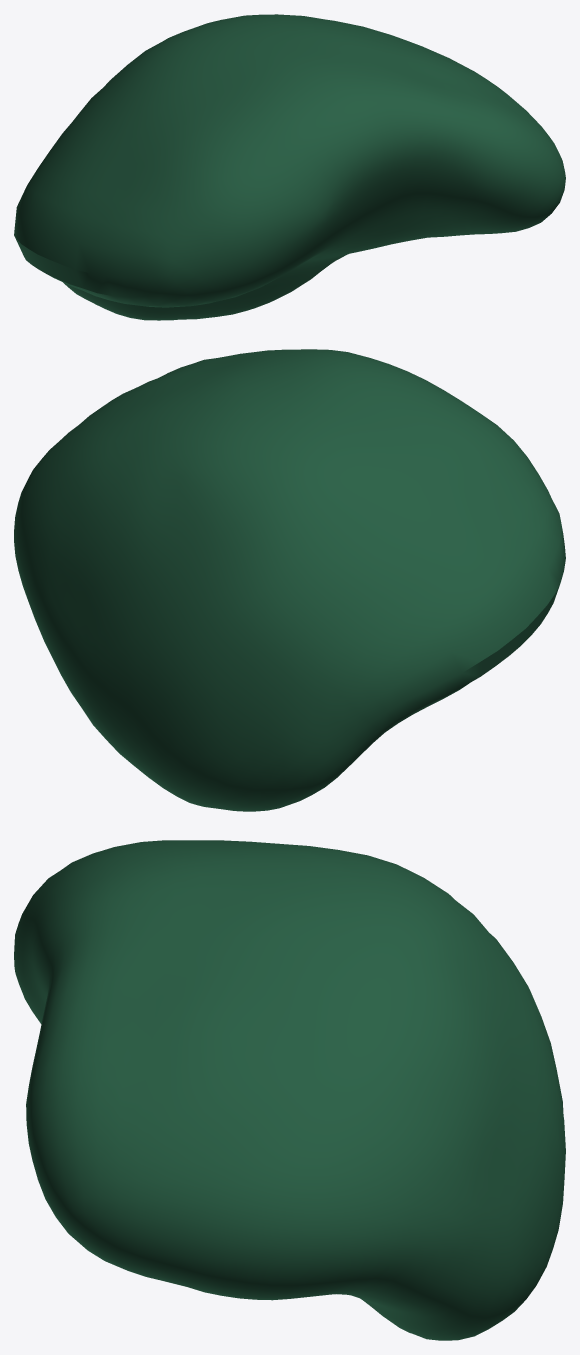
The model's file is Shrub.glb.
3 renders of one model, top to bottom at view 1: azimuth 30°, elevation 25°; view 2: azimuth 150°, elevation 25°; view 3: azimuth 270°, elevation 25°, orthographic. The views are drawn at different scales.
Parts seen in each view (by area): view 1: rock.002; view 2: rock.002; view 3: rock.002.
Part boxes in pixels (left/top/right/bottom): rock.002: left=14, top=14, right=565, bottom=320; rock.002: left=14, top=349, right=565, bottom=811; rock.002: left=14, top=840, right=565, bottom=1340.
Bounding box in the file's own units: 0.8895 × 0.5863 × 0.6605.
